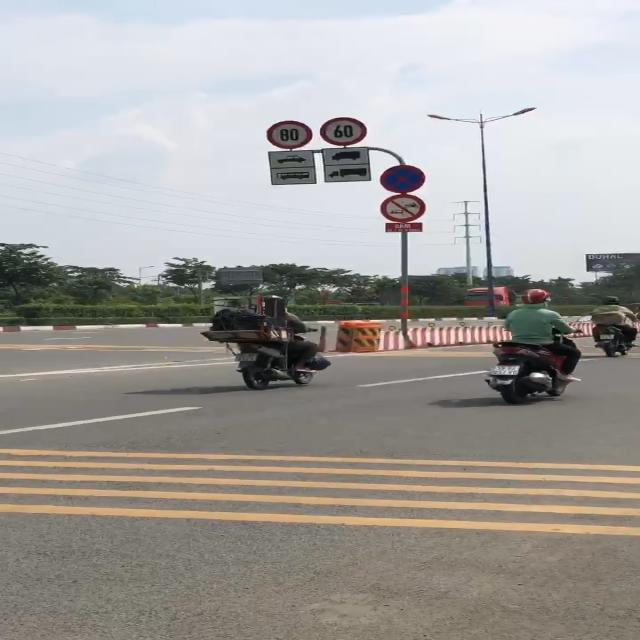Bien bao cam dung xe va do xe: (378, 164, 432, 194)
Bien bao toc do toi da cho phep: (317, 116, 371, 148), (263, 119, 312, 150)
